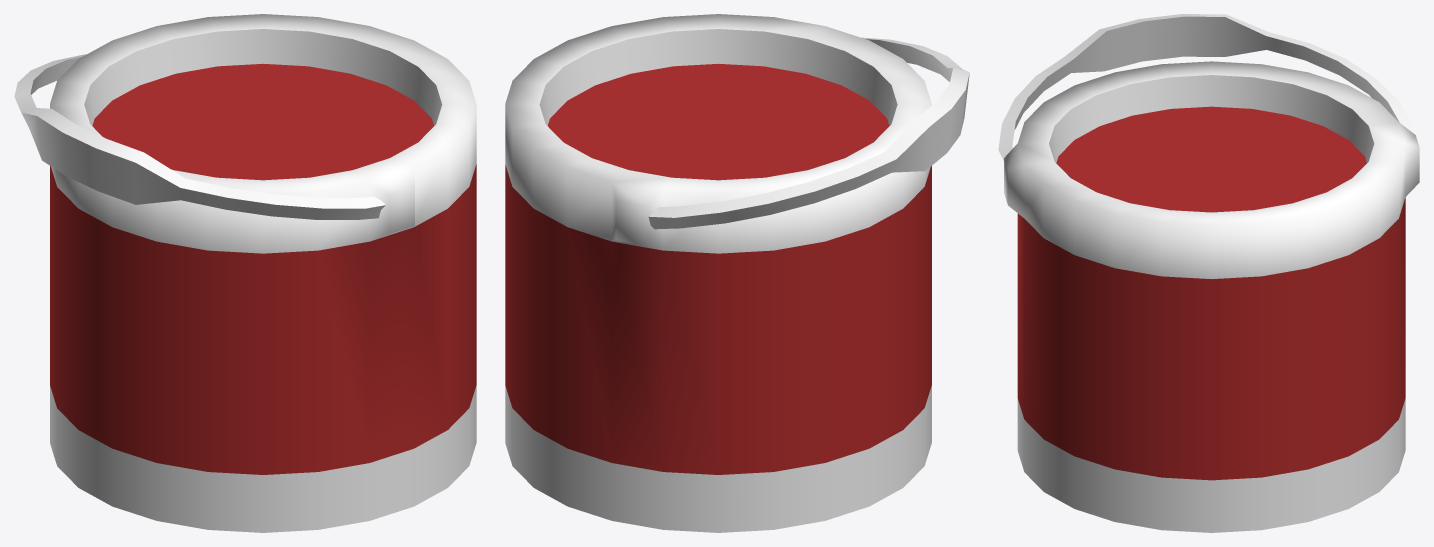
Rendered from PaintTin.fbx.
The picture shows the model from 3 angles, left to right: view 1: azimuth 30°, elevation 25°; view 2: azimuth 150°, elevation 25°; view 3: azimuth 270°, elevation 25°; orthographic projection. The views are drawn at different scales.
Visible parts, largest first — view 1: PaintTin; view 2: PaintTin; view 3: PaintTin.
Part boxes in pixels (box(x1,y1,x2,y2)): PaintTin: box(14, 14, 476, 532); PaintTin: box(505, 14, 969, 532); PaintTin: box(998, 14, 1419, 532).
Size of the model in its own units: 103 by 92.28 by 102.
